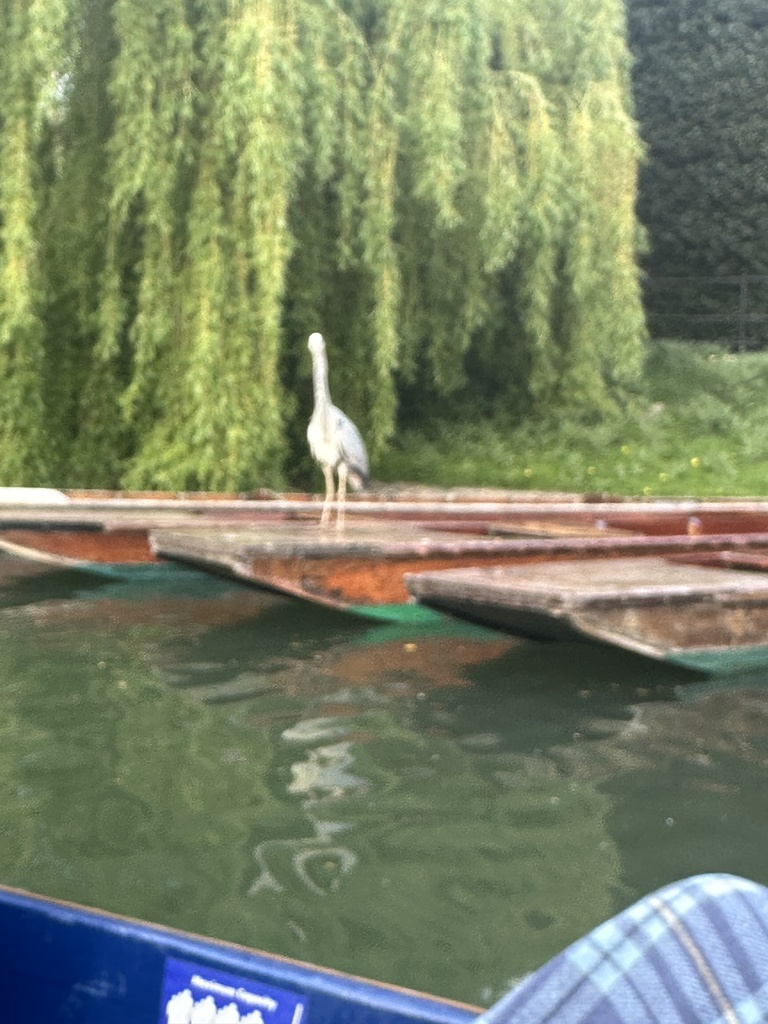heron: (288, 327, 371, 548)
